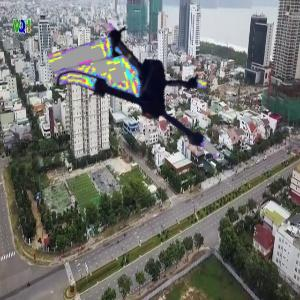drone: (66, 14, 236, 184)
